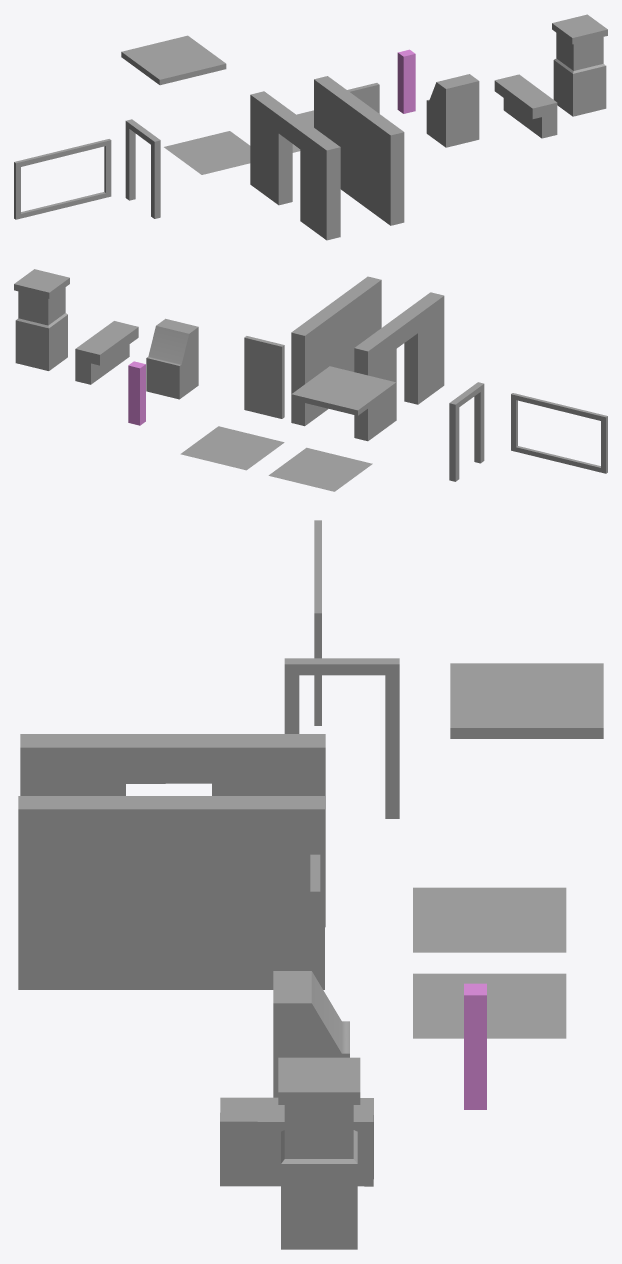
The model's file is Modular Pieces.fbx.
3 renders of one model, top to bottom at view 1: azimuth 30°, elevation 25°; view 2: azimuth 150°, elevation 25°; view 3: azimuth 270°, elevation 25°, orthographic. The views are drawn at different scales.
Visible parts, largest first — view 1: pasted__pCube4, pasted__pasted__pasted__pasted__pasted__pasted__pCube1, pCube18, pCube6, pasted__pasted__pasted__pPlane1, pCube8, pasted__pasted__pPlane1, pCube7, pasted__pasted__pCube4, PersonRef, pCube3; view 2: pasted__pCube4, pasted__pasted__pasted__pasted__pasted__pasted__pCube1, pCube18, pCube6, pasted__pasted__pasted__pPlane1, pCube3, pasted__pasted__pPlane1, pasted__pPlane1, pCube8, pCube7, pasted__pasted__pCube4, PersonRef; view 3: pasted__pasted__pasted__pasted__pasted__pasted__pCube1, pasted__pCube4, pCube18, pasted__pasted__pasted__pPlane1, pasted__pasted__pPlane1, pasted__pPlane1, pCube8, pCube6, pasted__pasted__pCube4, PersonRef, pCube7, pCube3.
Part boxes in pixels (left/top/right/bottom): pasted__pCube4: left=250, top=91, right=340, bottom=240; pasted__pasted__pasted__pasted__pasted__pasted__pCube1: left=314, top=76, right=404, bottom=225; pCube18: left=552, top=14, right=607, bottom=116; pCube6: left=426, top=74, right=479, bottom=147; pasted__pasted__pasted__pPlane1: left=121, top=35, right=226, bottom=85; pCube8: left=494, top=74, right=557, bottom=138; pasted__pasted__pPlane1: left=164, top=131, right=250, bottom=174; pCube7: left=14, top=139, right=111, bottom=219; pasted__pasted__pCube4: left=125, top=119, right=160, bottom=218; PersonRef: left=397, top=49, right=415, bottom=113; pCube3: left=347, top=83, right=379, bottom=113; pasted__pCube4: left=354, top=292, right=444, bottom=441; pasted__pasted__pasted__pasted__pasted__pasted__pCube1: left=291, top=276, right=381, bottom=426; pCube18: left=14, top=269, right=69, bottom=370; pCube6: left=146, top=318, right=198, bottom=399; pasted__pasted__pasted__pPlane1: left=291, top=366, right=396, bottom=415; pCube3: left=244, top=336, right=284, bottom=418; pasted__pasted__pPlane1: left=268, top=447, right=372, bottom=491; pasted__pPlane1: left=180, top=426, right=284, bottom=470; pCube8: left=75, top=321, right=138, bottom=384; pCube7: left=511, top=393, right=607, bottom=473; pasted__pasted__pCube4: left=449, top=382, right=484, bottom=481; PersonRef: left=128, top=361, right=145, bottom=425; pasted__pasted__pasted__pasted__pasted__pasted__pCube1: left=18, top=796, right=324, bottom=989; pasted__pCube4: left=20, top=734, right=325, bottom=927; pCube18: left=278, top=1057, right=360, bottom=1249; pasted__pasted__pasted__pPlane1: left=450, top=663, right=603, bottom=738; pasted__pasted__pPlane1: left=413, top=887, right=566, bottom=952; pasted__pPlane1: left=413, top=973, right=566, bottom=1038; pCube8: left=220, top=1097, right=373, bottom=1186; pCube6: left=273, top=971, right=349, bottom=1097; pasted__pasted__pCube4: left=284, top=658, right=399, bottom=818; PersonRef: left=464, top=983, right=486, bottom=1109; pCube7: left=314, top=520, right=321, bottom=725; pCube3: left=310, top=854, right=320, bottom=984.
Bounding box in the file's own units: 1754 × 280 × 763.
